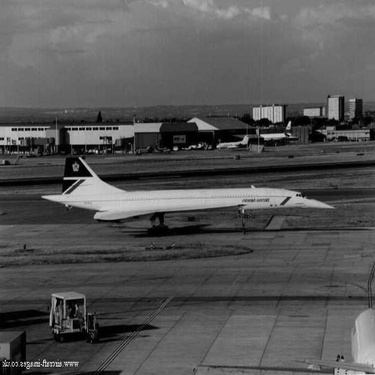airplane: (37, 124, 349, 242), (232, 105, 303, 149), (215, 130, 255, 156)
